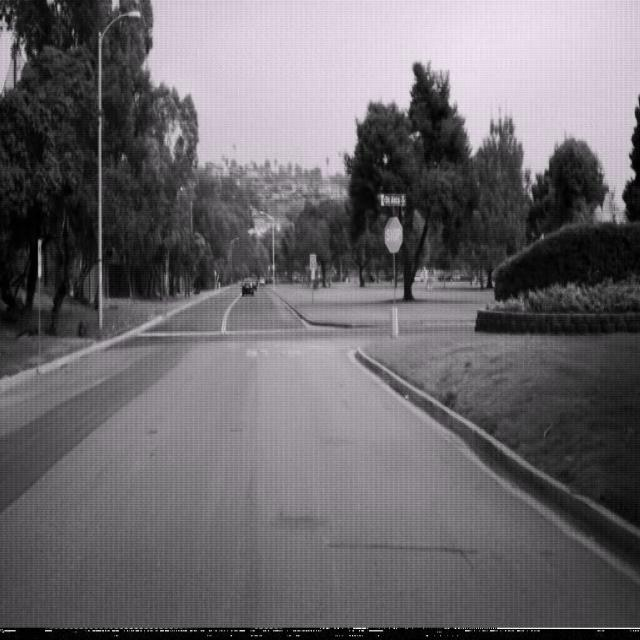stop: (383, 214, 403, 253)
